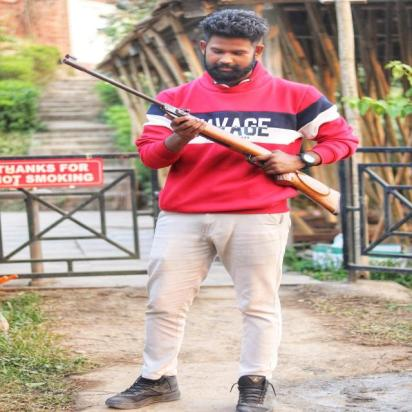Gun: (60, 53, 342, 217)
